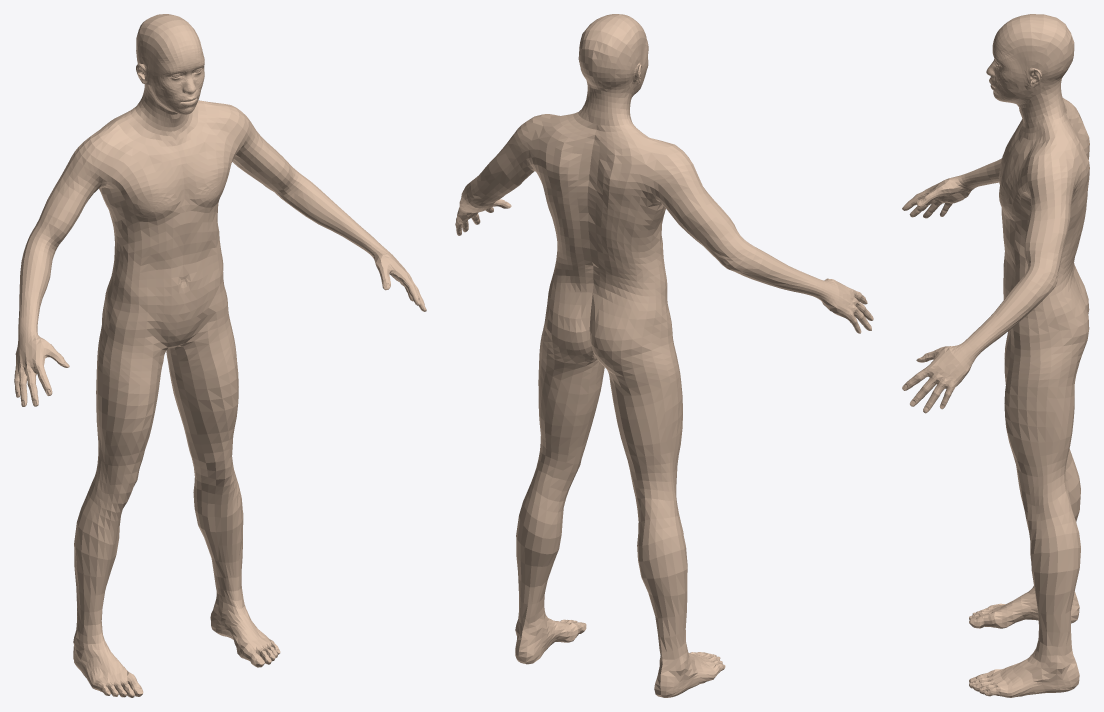
Rendered from male-young-fit-high.glb.
The picture shows the model from 3 angles, left to right: view 1: azimuth 30°, elevation 25°; view 2: azimuth 150°, elevation 25°; view 3: azimuth 270°, elevation 25°; orthographic projection.
Visible parts, largest first — view 1: world; view 2: world; view 3: world.
Boxes of the visible parts, left/top/right/bottom form: world: left=14, top=14, right=426, bottom=697; world: left=455, top=14, right=873, bottom=697; world: left=902, top=14, right=1089, bottom=697.
Bounding box in the file's own units: 1.24 × 1.89 × 0.5025.
